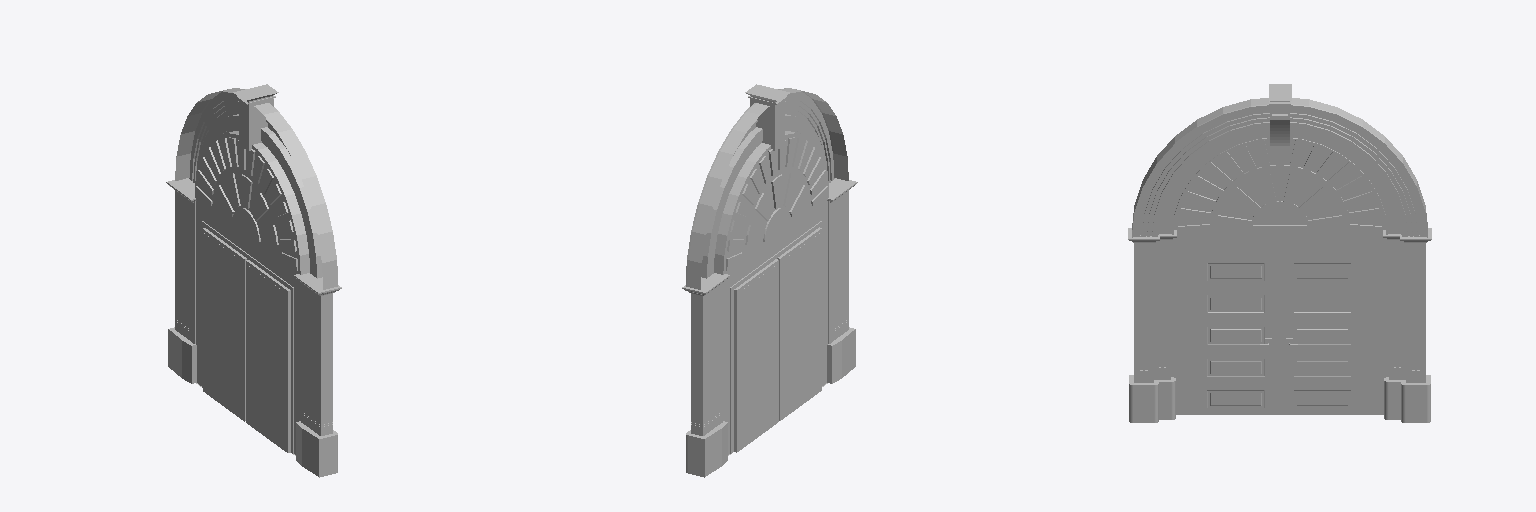
Rendered from EntranceDoors.obj.
3 views of the same model, side by side, from view 1: azimuth 30°, elevation 25°; view 2: azimuth 150°, elevation 25°; view 3: azimuth 270°, elevation 25° (orthographic).
Parts seen in each view (by area): view 1: Torus.005, Cube.001_Cube.017, Cube_Cube.001, Cube_Cube.002, Cube_Cube.016; view 2: Torus.005, Cube.001_Cube.017, Cube_Cube.002, Cube_Cube.001, Cube_Cube.016; view 3: Torus.005, Cube.001_Cube.017, Cube_Cube.002, Cube_Cube.001, Cube_Cube.016.
Part boxes in pixels (bbox=[...]): Torus.005: bbox=[175, 88, 337, 455]; Cube.001_Cube.017: bbox=[166, 178, 341, 477]; Cube_Cube.001: bbox=[246, 260, 290, 452]; Cube_Cube.002: bbox=[203, 228, 246, 421]; Cube_Cube.016: bbox=[233, 84, 278, 151]; Torus.005: bbox=[686, 88, 848, 455]; Cube.001_Cube.017: bbox=[682, 178, 857, 477]; Cube_Cube.002: bbox=[734, 259, 778, 452]; Cube_Cube.001: bbox=[777, 227, 821, 420]; Cube_Cube.016: bbox=[745, 84, 789, 151]; Torus.005: bbox=[1132, 98, 1427, 414]; Cube.001_Cube.017: bbox=[1128, 228, 1431, 422]; Cube_Cube.002: bbox=[1280, 253, 1364, 414]; Cube_Cube.001: bbox=[1194, 253, 1277, 414]; Cube_Cube.016: bbox=[1269, 84, 1291, 145].
Bounding box in the file's own units: 0.5487 × 5 × 4.22.